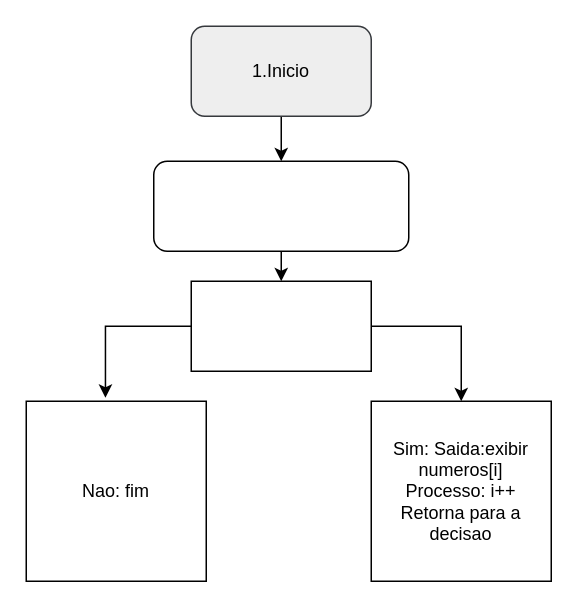
Image size: 578x608. Some labels were removed from this diagram. The shapes that lost their labels are listed below. From the top down, each one's centre as x and y in pixels, then its label:
At pixel 280 205: "2.processo: int numeros[5]={10,20,30,40,50} e int i =0".
At pixel 280 325: "3.decisao: i<5.".
